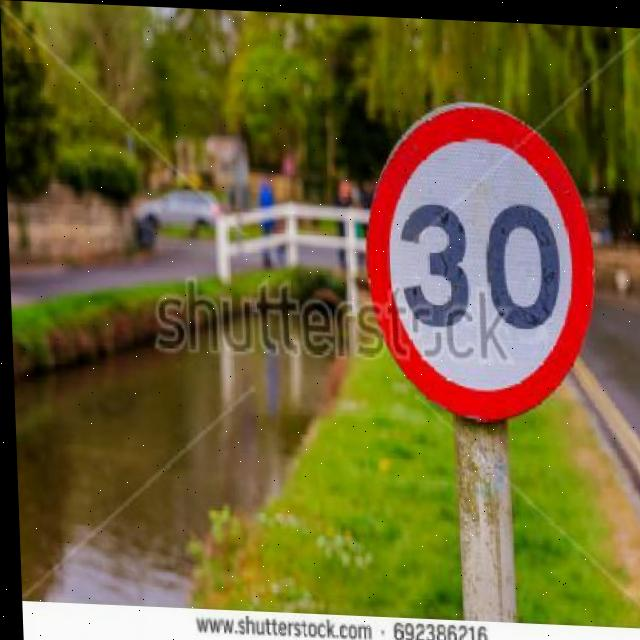Speed limit 30: (356, 91, 602, 426)
